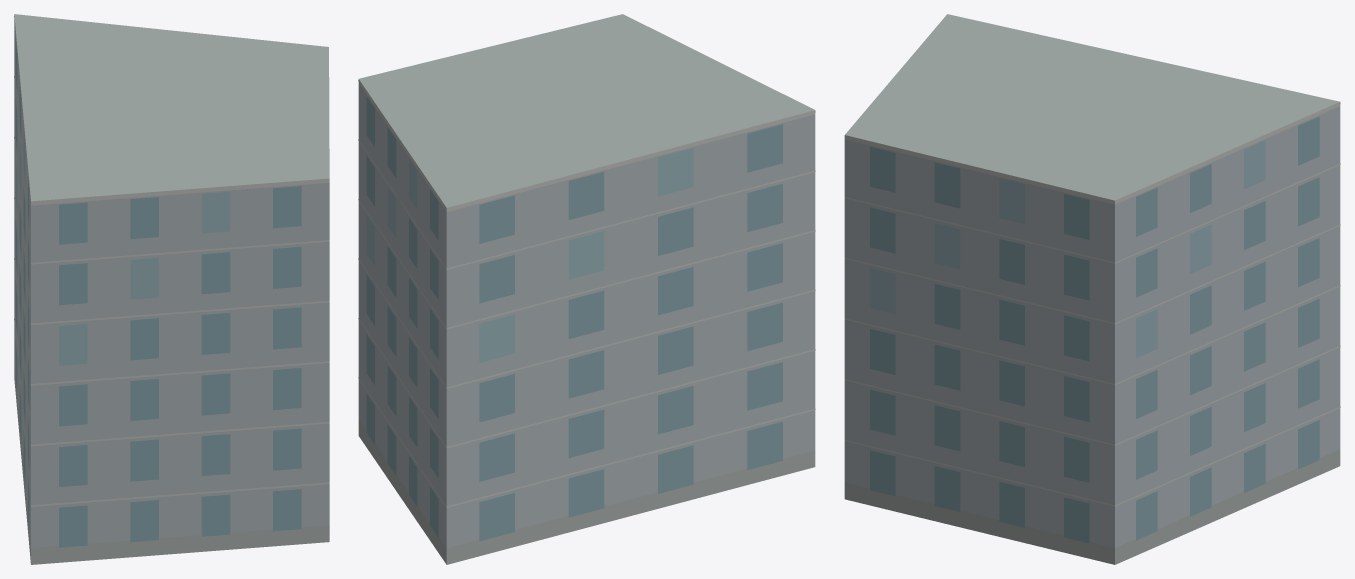
Rendered from survey-upis-32538981.glb.
The picture shows the model from 3 angles, left to right: view 1: azimuth 30°, elevation 25°; view 2: azimuth 150°, elevation 25°; view 3: azimuth 270°, elevation 25°; orthographic projection. The views are drawn at different scales.
Visible parts, largest first — view 1: survey-upis-32538981.tmp; view 2: survey-upis-32538981.tmp; view 3: survey-upis-32538981.tmp.
Part boxes in pixels (x1=…): survey-upis-32538981.tmp: x1=14, y1=14, x2=329, y2=564; survey-upis-32538981.tmp: x1=358, y1=14, x2=815, y2=564; survey-upis-32538981.tmp: x1=844, y1=14, x2=1340, y2=564.
Size of the model in its own units: 22.99 by 20.91 by 25.8.
